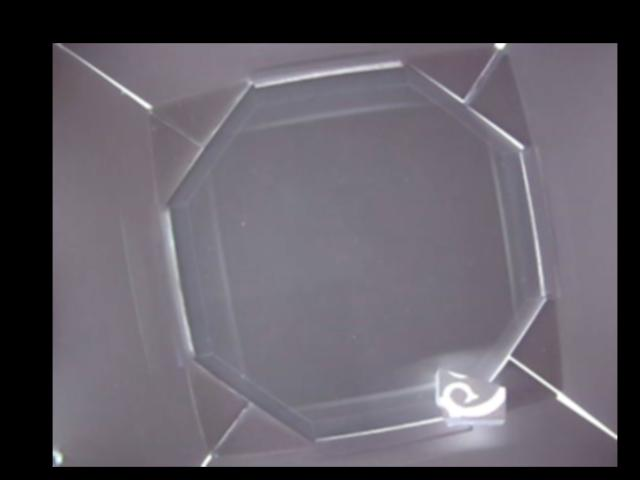China: (436, 366, 508, 425)
